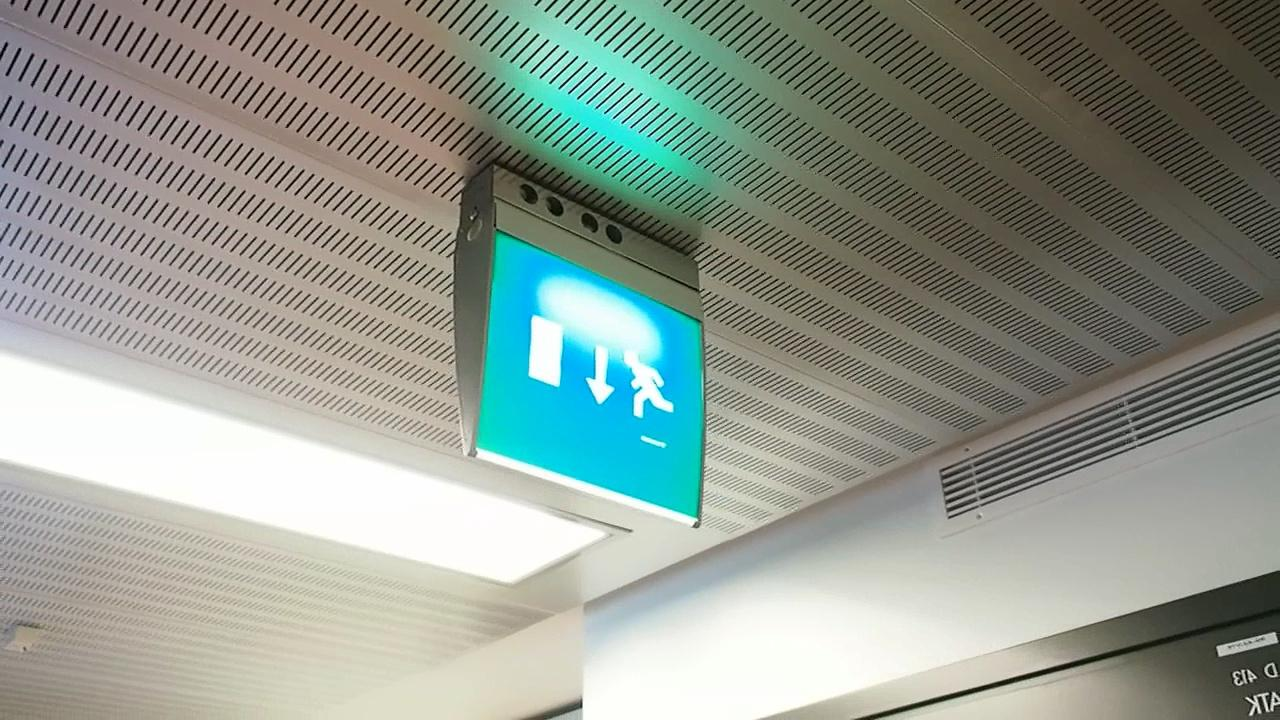exit: (473, 242, 709, 517)
